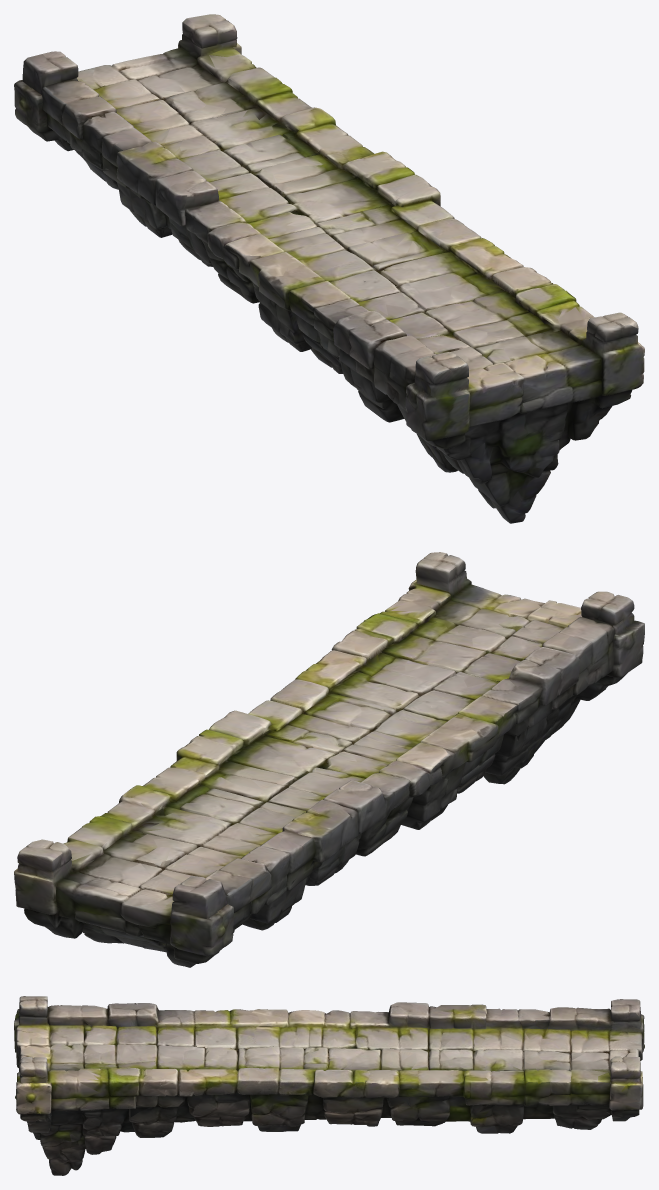
Rendered from Island_Bridge.fbx.
3 views of the same model, one above another, from view 1: azimuth 30°, elevation 25°; view 2: azimuth 150°, elevation 25°; view 3: azimuth 270°, elevation 25° (orthographic). The views are drawn at different scales.
Visible parts, largest first — view 1: Island_Bridge; view 2: Island_Bridge; view 3: Island_Bridge.
Part boxes in pixels (box(x1,y1,x2,y2)): Island_Bridge: box(14, 14, 644, 523); Island_Bridge: box(14, 552, 644, 967); Island_Bridge: box(14, 996, 644, 1175).
Bounding box in the file's own units: 420 × 350 × 1400.
Materials: 1 (1 with a texture image).
